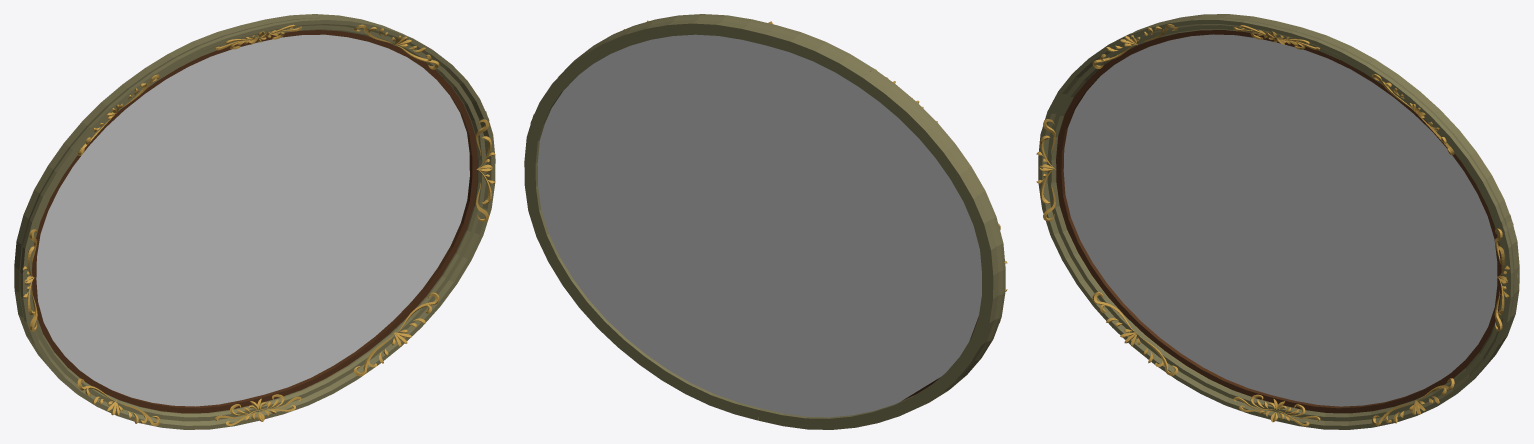
The model's file is frame002_s.glb.
3 renders of one model, left to right at view 1: azimuth 30°, elevation 25°; view 2: azimuth 150°, elevation 25°; view 3: azimuth 330°, elevation 25°, orthographic.
Visible parts, largest first — view 1: canvas_平面.001, frame_Cube.001, frame_inner_Cube.002, moyou022, moyou021_Lines.001, Lines; view 2: canvas_平面.001, frame_Cube.001; view 3: canvas_平面.001, frame_Cube.001, frame_inner_Cube.002, moyou022, moyou021_Lines.001, Lines.
Boxes of the visible parts, x1=… form: canvas_平面.001: x1=36, y1=34, x2=469, y2=406; frame_Cube.001: x1=14, y1=14, x2=495, y2=429; frame_inner_Cube.002: x1=32, y1=30, x2=477, y2=413; moyou022: x1=77, y1=24, x2=439, y2=426; moyou021_Lines.001: x1=215, y1=24, x2=301, y2=425; Lines: x1=22, y1=119, x2=495, y2=331; canvas_平面.001: x1=537, y1=34, x2=981, y2=417; frame_Cube.001: x1=524, y1=14, x2=1005, y2=429; canvas_平面.001: x1=1063, y1=34, x2=1518, y2=406; frame_Cube.001: x1=1038, y1=14, x2=1519, y2=429; frame_inner_Cube.002: x1=1056, y1=30, x2=1501, y2=413; moyou022: x1=1092, y1=24, x2=1454, y2=425; moyou021_Lines.001: x1=1233, y1=25, x2=1320, y2=426; Lines: x1=1036, y1=119, x2=1509, y2=331.
Bounding box in the file's own units: 14.14 × 11.17 × 0.6888.
